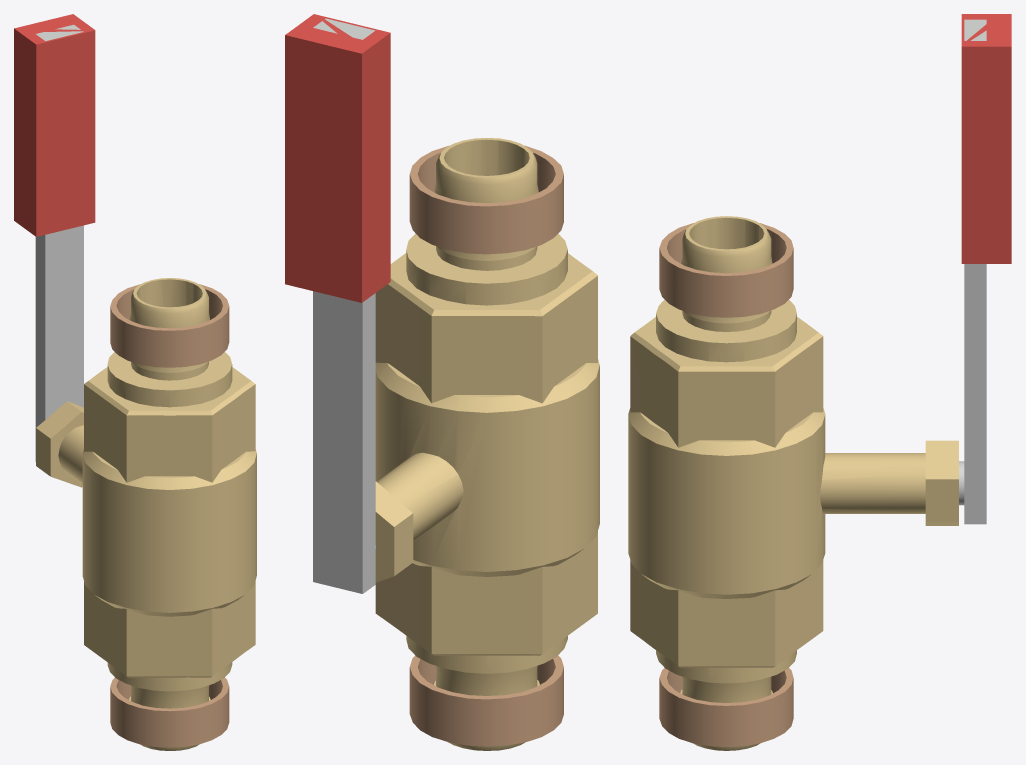
Rendered from pipes_supply__water_heater__4c531daf.glb.
3 renders of one model, left to right at view 1: azimuth 30°, elevation 25°; view 2: azimuth 150°, elevation 25°; view 3: azimuth 270°, elevation 25°, orthographic. The views are drawn at different scales.
Parts seen in each view (by area): view 1: valve_supply_wh_cold_tmv__pex; view 2: valve_supply_wh_cold_tmv__pex; view 3: valve_supply_wh_cold_tmv__pex.
Part boxes in pixels (bbox=[...]): valve_supply_wh_cold_tmv__pex: bbox=[14, 14, 256, 750]; valve_supply_wh_cold_tmv__pex: bbox=[285, 14, 599, 750]; valve_supply_wh_cold_tmv__pex: bbox=[628, 14, 1011, 750].
Size of the model in its own units: 0.0356 by 0.1398 by 0.0691.
